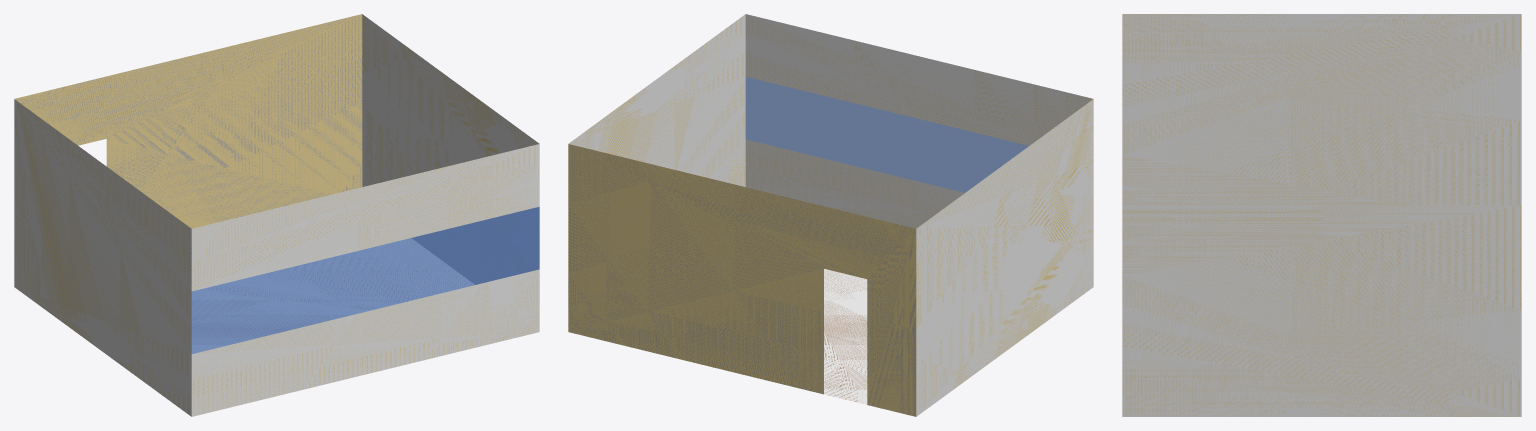
Rendered from LAB005.obj.
The picture shows the model from 3 angles, left to right: view 1: azimuth 30°, elevation 25°; view 2: azimuth 150°, elevation 25°; view 3: azimuth 270°, elevation 25°; orthographic projection. The views are drawn at different scales.
Parts seen in each view (by area): view 1: Mesh1 LAB005 Model; view 2: Mesh1 LAB005 Model; view 3: Mesh1 LAB005 Model.
Boxes of the visible parts, left/top/right/bottom form: Mesh1 LAB005 Model: left=14, top=14, right=539, bottom=416; Mesh1 LAB005 Model: left=568, top=14, right=1093, bottom=416; Mesh1 LAB005 Model: left=1122, top=14, right=1521, bottom=416.
Bounding box in the file's own units: 5.8 × 3 × 5.12.
Materials: 5 (1 with a texture image).
